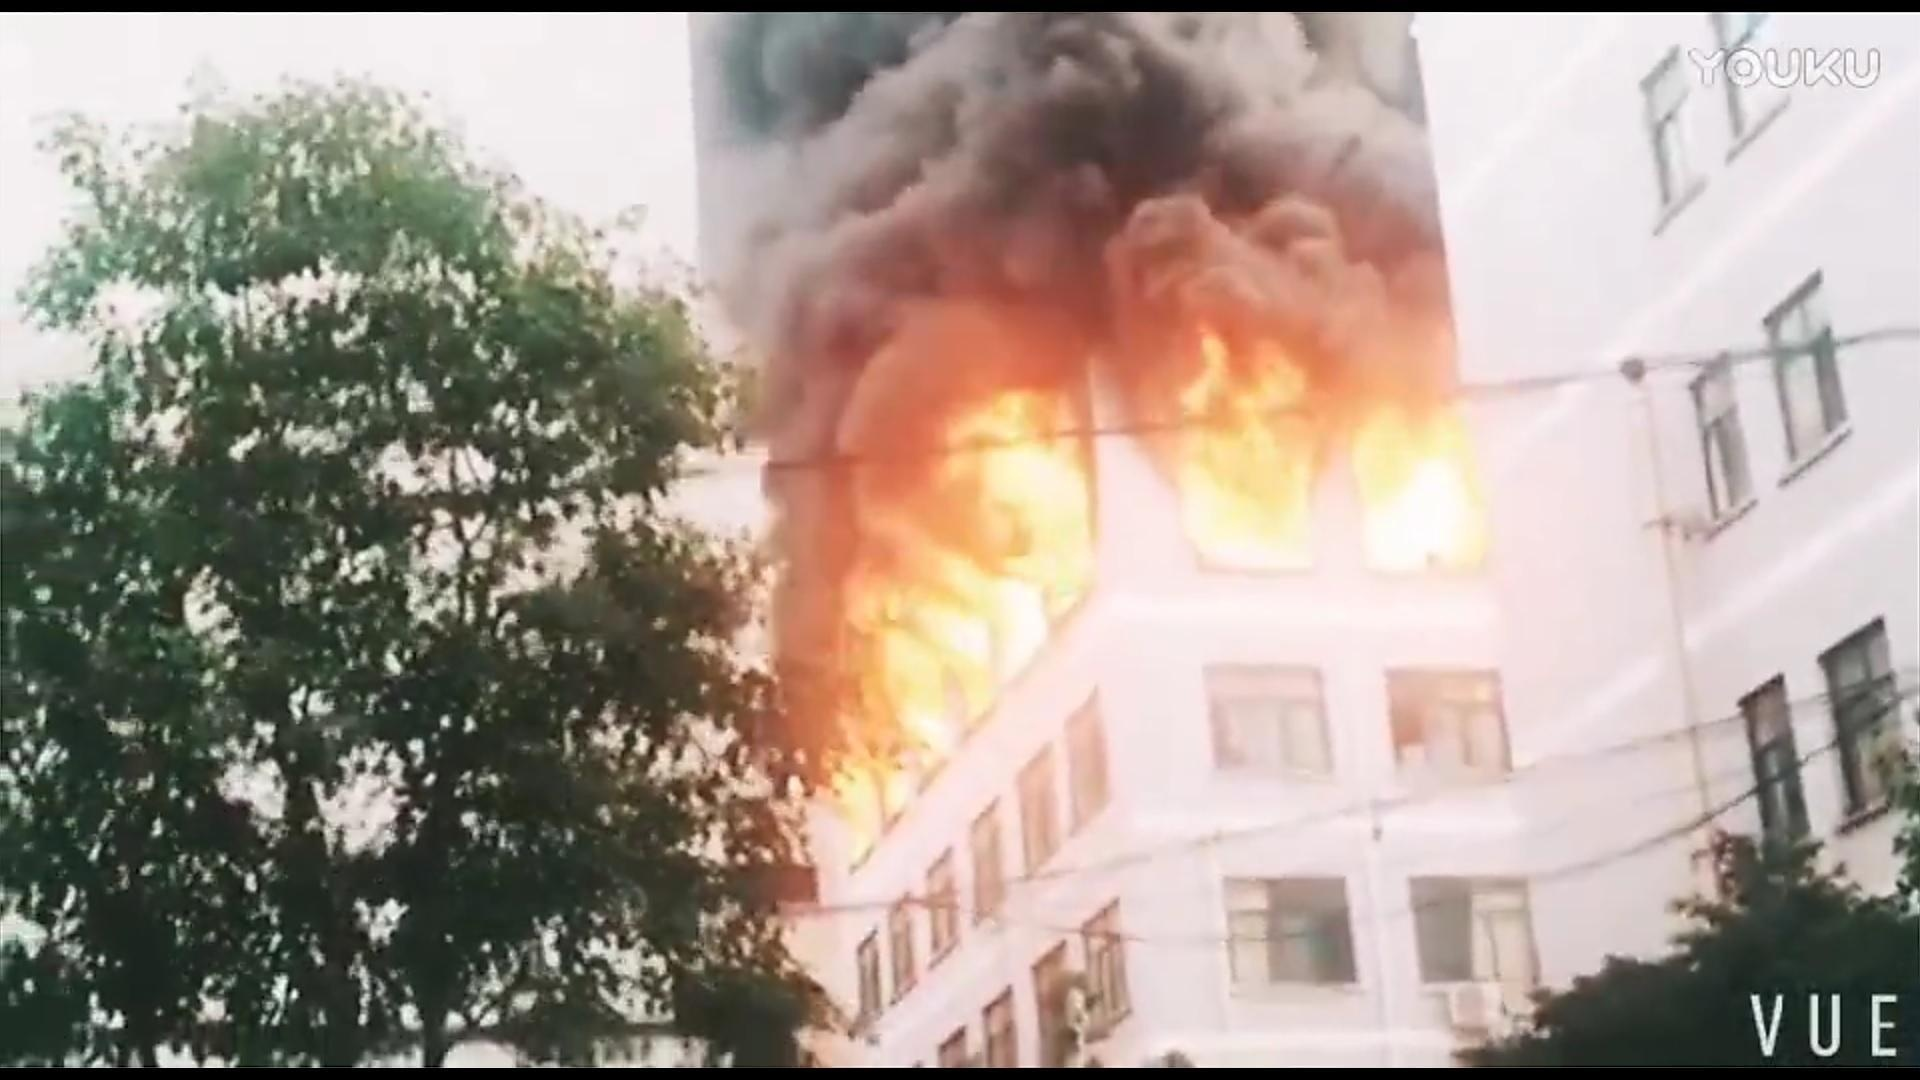fire: (789, 381, 1101, 847), (1159, 334, 1485, 582)
